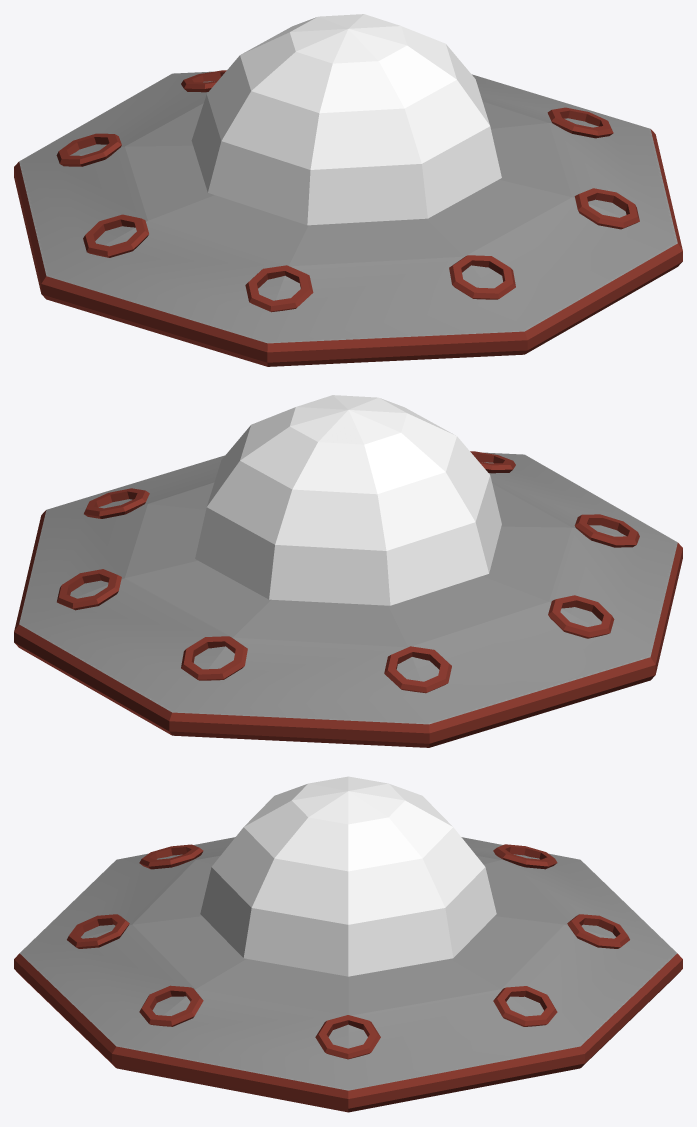
Rendered from ship.glb.
The picture shows the model from 3 angles, top to bottom: view 1: azimuth 30°, elevation 25°; view 2: azimuth 150°, elevation 25°; view 3: azimuth 270°, elevation 25°; orthographic projection. The views are drawn at different scales.
Visible parts, largest first — view 1: pSphere1, polySurface1, pTorus3, pTorus2, pTorus1, pTorus4; view 2: pSphere1, polySurface1, pTorus4, pTorus2, pTorus1, pTorus3; view 3: pSphere1, polySurface1, pTorus1, pTorus3, pTorus4, pTorus2.
Part boxes in pixels (box(x1,y1,x2,y2)): pSphere1: box(14, 71, 682, 366); polySurface1: box(191, 14, 501, 225); pTorus3: box(56, 133, 639, 229); pTorus2: box(83, 107, 613, 257); pTorus1: box(181, 70, 515, 299); pTorus4: box(245, 265, 313, 312); pSphere1: box(14, 452, 682, 747); polySurface1: box(195, 395, 501, 605); pTorus4: box(57, 514, 639, 610); pTorus2: box(84, 488, 614, 638); pTorus1: box(181, 451, 515, 680); pTorus3: box(384, 646, 451, 693); pSphere1: box(14, 837, 682, 1112); polySurface1: box(200, 776, 496, 976); pTorus1: box(67, 914, 629, 948); pTorus3: box(139, 844, 557, 1026); pTorus4: box(139, 844, 557, 1026); pTorus2: box(315, 1015, 380, 1059).
Bounding box in the file's own units: 2.34 × 0.8914 × 2.36.
Materials: 2 (1 with a texture image).
